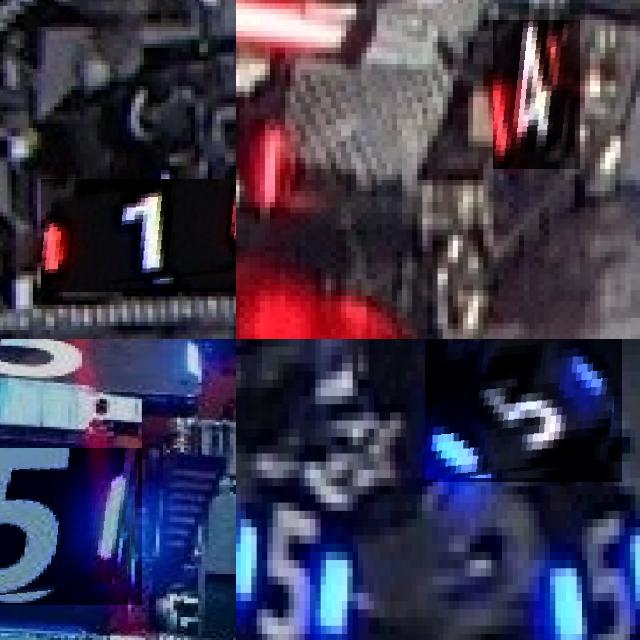B5: (424, 339, 622, 482), (0, 447, 141, 605), (236, 482, 350, 640), (534, 502, 640, 640)
R1: (41, 178, 236, 292)
R4: (493, 20, 580, 169), (236, 91, 290, 218)
